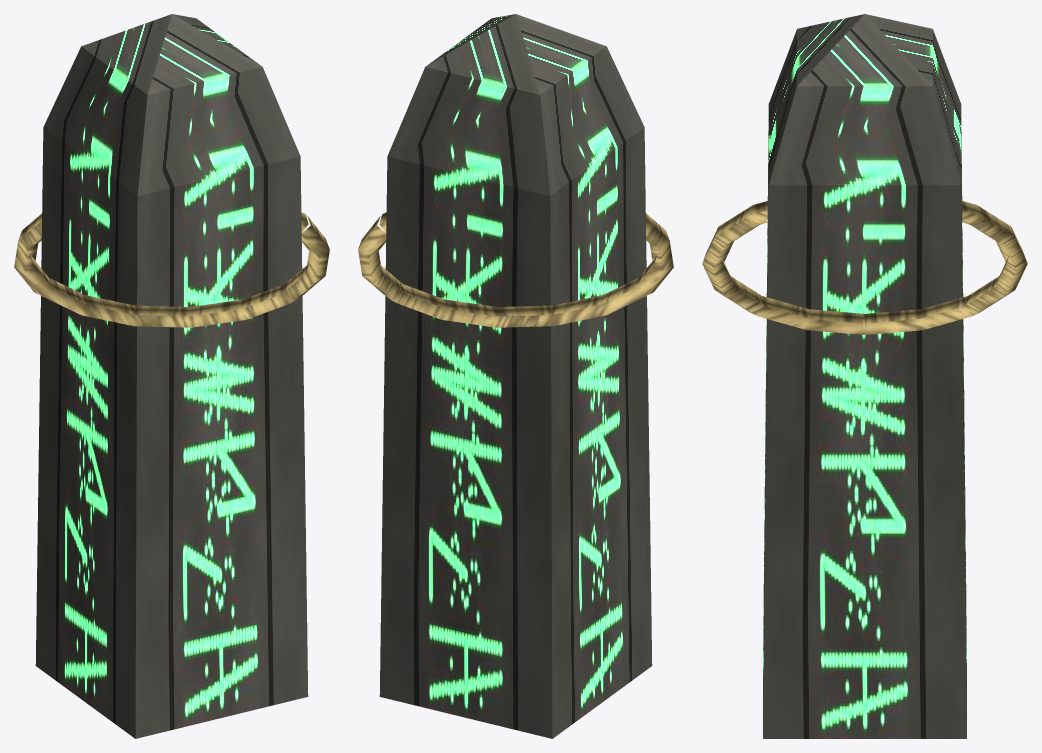
Rendered from seal_stone.glb.
3 renders of one model, left to right at view 1: azimuth 30°, elevation 25°; view 2: azimuth 150°, elevation 25°; view 3: azimuth 270°, elevation 25°, orthographic. The views are drawn at different scales.
Parts seen in each view (by area): view 1: SealStone, Rope; view 2: SealStone, Rope; view 3: SealStone, Rope.
Part boxes in pixels (x1=…): SealStone: x1=35, y1=14, x2=308, y2=738; Rope: x1=14, y1=212, x2=329, y2=327; SealStone: x1=379, y1=14, x2=652, y2=738; Rope: x1=358, y1=212, x2=673, y2=327; SealStone: x1=763, y1=14, x2=966, y2=738; Rope: x1=702, y1=201, x2=1027, y2=334.
Size of what is drawn, in the model's own units: 2.03 by 4.7 by 2.03.
2 materials, 2 textured.
